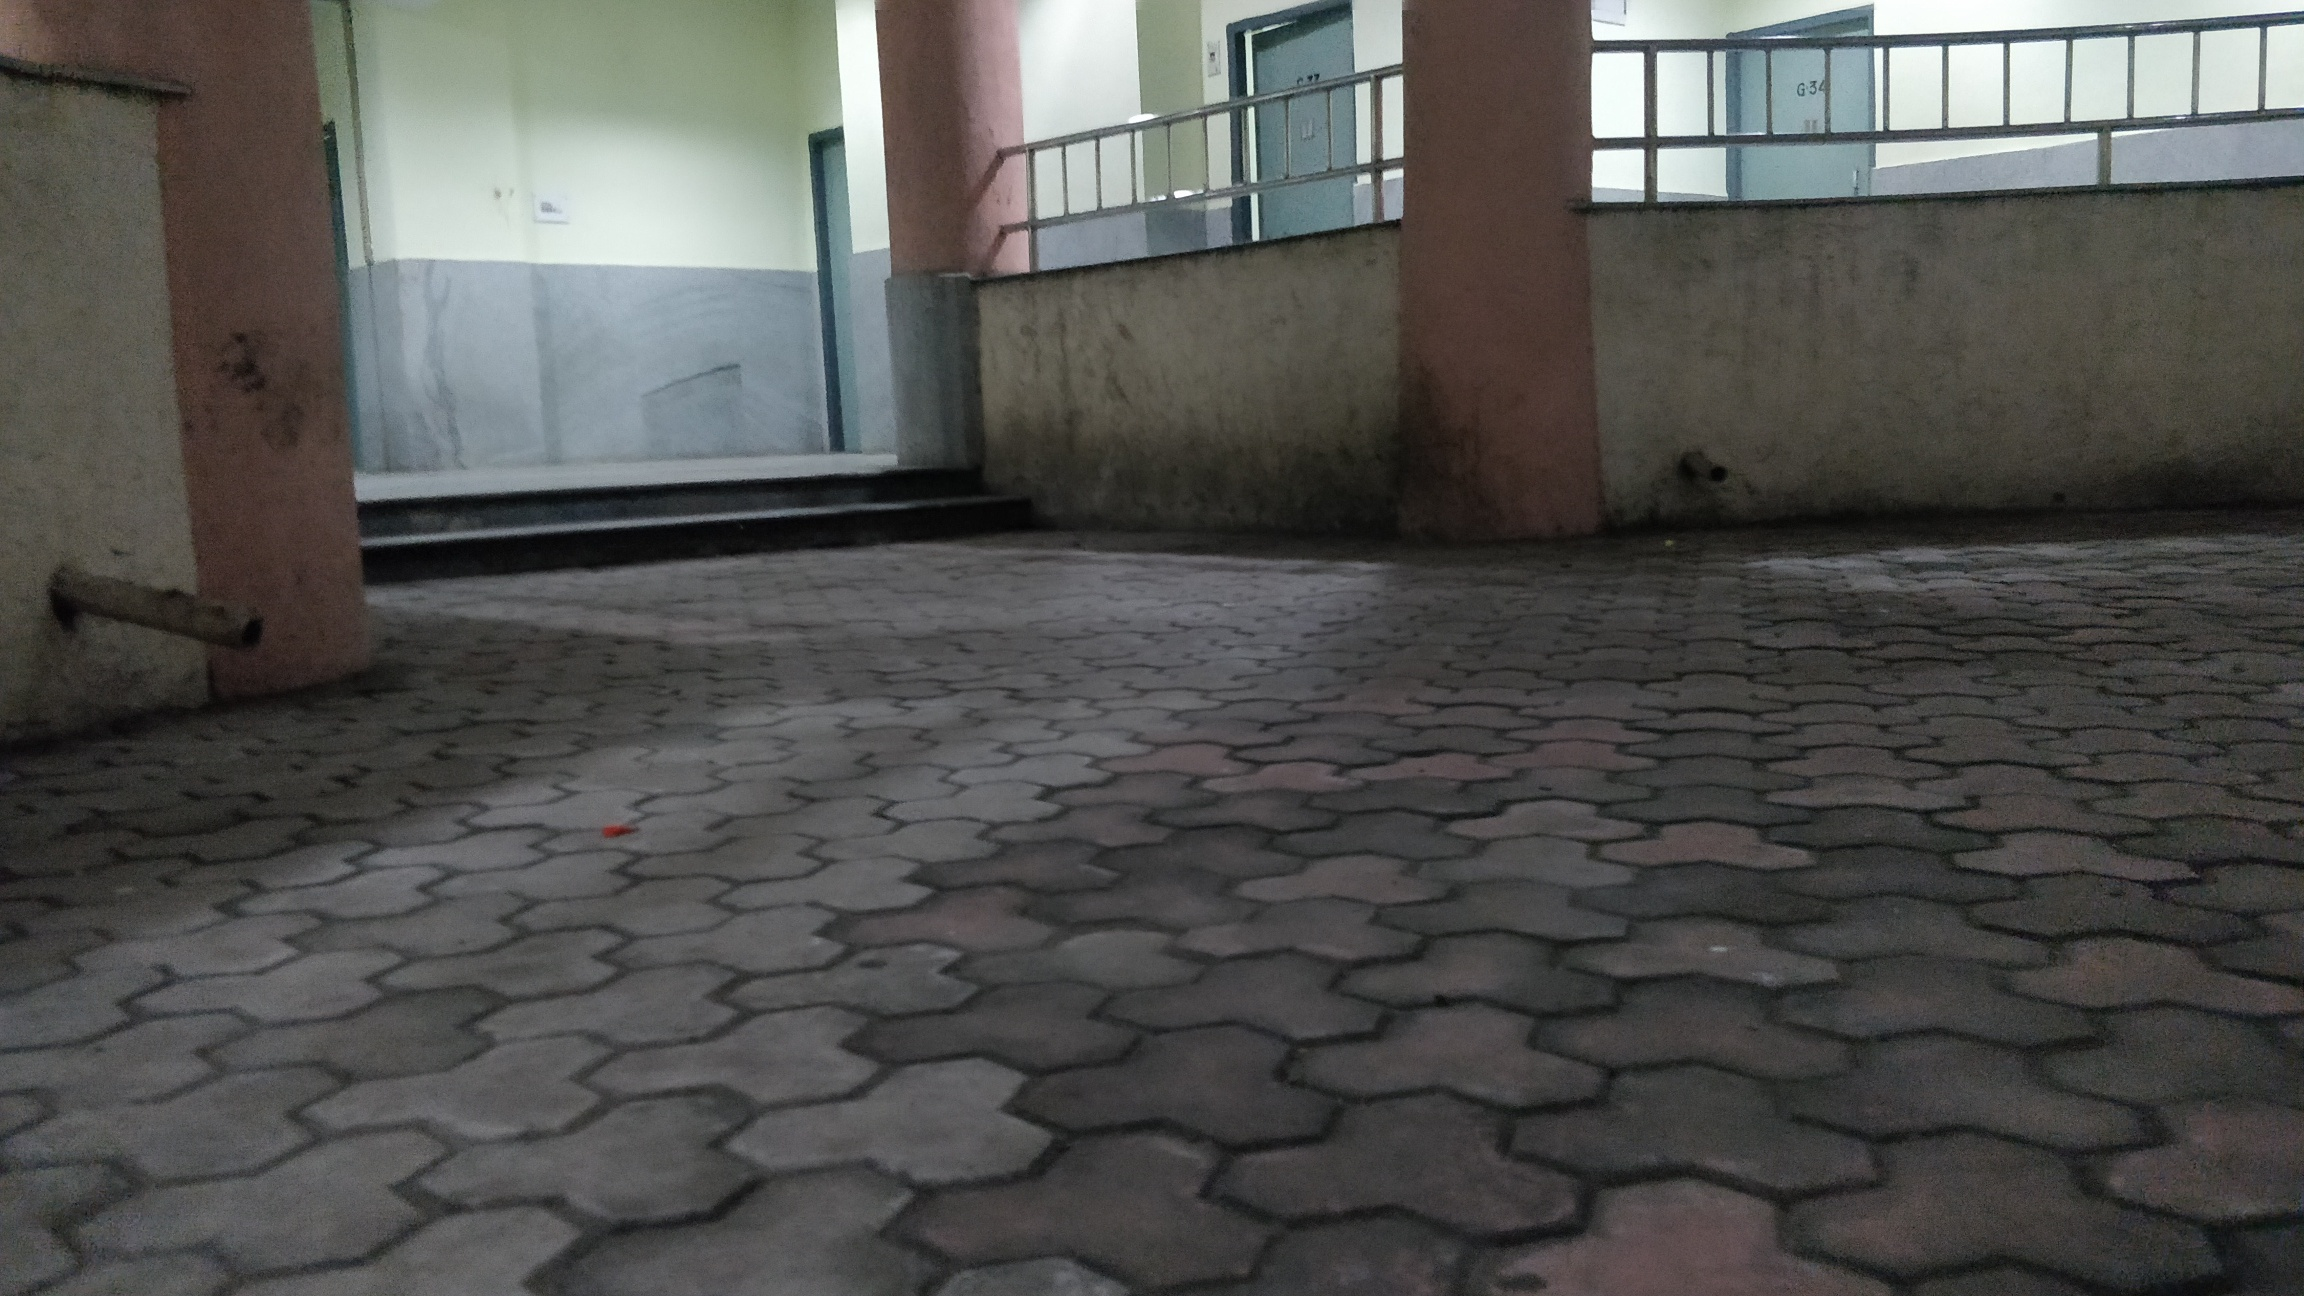stairs_up: (350, 460, 1014, 565)
